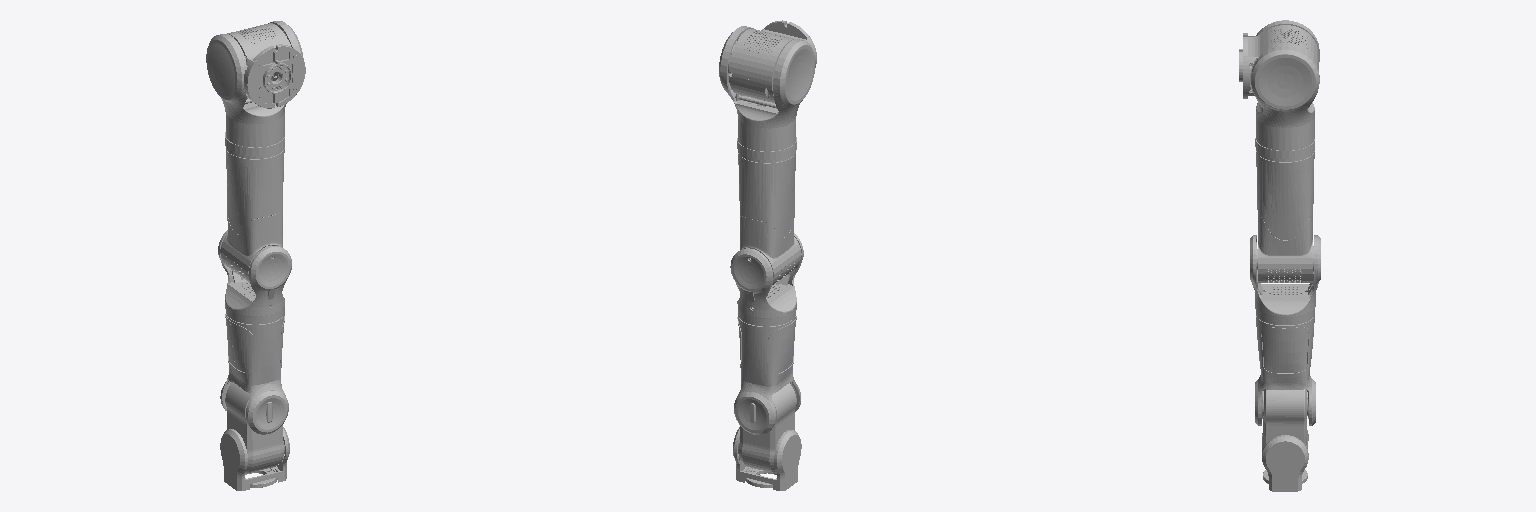
robot.urdf — lkls73_arm_left:
<?xml version="1.0" encoding="utf-8"?>
<!-- Source: vendor lkls73_i1_dual_arm_description package (A7V2_50_4.27).
     Rerooted at a zero-mass virtual link L_arm_root so the recipe's fixed
     mount joint can live above the first revolute L1_Joint. Kinematics
     otherwise match the source URDF exactly; L1_Joint's original [0 0.164 0]
     xyz offset is absorbed by the torso base's arm_left_mount placement. -->
<robot name="lkls73_arm_left">

  <link name="L_arm_root" />

  <link name="L1_Link">
    <inertial>
      <origin xyz="0.00235600060651345 0.0538143182293528 0.00010452198160641" rpy="0 0 0" />
      <mass value="1.3997199601261" />
      <inertia
        ixx="0.00114445383866051" ixy="-2.33503672142218E-06" ixz="-9.94413789148138E-09"
        iyy="0.000654874787984474" iyz="1.05907637546798E-06"
        izz="0.000691494366096022" />
    </inertial>
    <visual>
      <origin xyz="0 0 0" rpy="0 0 0" />
      <geometry>
        <mesh filename="meshes/L1_Link.STL" />
      </geometry>
      <material name="">
        <color rgba="0.752941176470588 0.752941176470588 0.752941176470588 1" />
      </material>
    </visual>
    <collision>
      <origin xyz="0 0 0" rpy="0 0 0" />
      <geometry>
        <mesh filename="meshes/L1_Link.STL" />
      </geometry>
    </collision>
  </link>
  <joint name="L1_Joint" type="revolute">
    <origin xyz="0 0 0" rpy="0 0 0" />
    <parent link="L_arm_root" />
    <child link="L1_Link" />
    <axis xyz="0 -1 0" />
    <limit lower="-2.91" upper="2.91" effort="80" velocity="10.47" />
  </joint>

  <link name="L2_Link">
    <inertial>
      <origin xyz="0.001618419731441 8.17586538826021E-06 -0.0795739675465699" rpy="0 0 0" />
      <mass value="1.14210487960353" />
      <inertia
        ixx="0.000999259952314694" ixy="4.38390447469883E-06" ixz="-1.34113970553355E-06"
        iyy="0.000929597687983869" iyz="2.7922699166407E-07"
        izz="0.000490873838603504" />
    </inertial>
    <visual>
      <origin xyz="0 0 0" rpy="0 0 0" />
      <geometry>
        <mesh filename="meshes/L2_Link.STL" />
      </geometry>
      <material name="">
        <color rgba="0.752941176470588 0.752941176470588 0.752941176470588 1" />
      </material>
    </visual>
    <collision>
      <origin xyz="0 0 0" rpy="0 0 0" />
      <geometry>
        <mesh filename="meshes/L2_Link.STL" />
      </geometry>
    </collision>
  </link>
  <joint name="L2_Joint" type="revolute">
    <origin xyz="0 0.058 0" rpy="0 0 0" />
    <parent link="L1_Link" />
    <child link="L2_Link" />
    <axis xyz="-1 0 0" />
    <limit lower="-3.2" upper="0.07" effort="80" velocity="10.47" />
  </joint>

  <link name="L3_Link">
    <inertial>
      <origin xyz="0.000181280975708543 0.0012493056236523 -0.128548942292033" rpy="0 0 0" />
      <mass value="1.2798435287888" />
      <inertia
        ixx="0.00158095142201815" ixy="7.74063763820645E-07" ixz="-8.68119829913453E-07"
        iyy="0.00163152743924312" iyz="-2.41539579836192E-06"
        izz="0.000344148864762278" />
    </inertial>
    <visual>
      <origin xyz="0 0 0" rpy="0 0 0" />
      <geometry>
        <mesh filename="meshes/L3_Link.STL" />
      </geometry>
      <material name="">
        <color rgba="0.752941176470588 0.752941176470588 0.752941176470588 1" />
      </material>
    </visual>
    <collision>
      <origin xyz="0 0 0" rpy="0 0 0" />
      <geometry>
        <mesh filename="meshes/L3_Link.STL" />
      </geometry>
    </collision>
  </link>
  <joint name="L3_Joint" type="revolute">
    <origin xyz="-2.5018E-05 0 -0.123" rpy="0 0 0" />
    <parent link="L2_Link" />
    <child link="L3_Link" />
    <axis xyz="0 0 1" />
    <limit lower="-2.69" upper="2.69" effort="36" velocity="9.1" />
  </joint>

  <link name="L4_Link">
    <inertial>
      <origin xyz="-3.38229166406629E-06 0.00077842370454409 -0.08460011635447" rpy="0 0 0" />
      <mass value="0.935504485205333" />
      <inertia
        ixx="0.000508246005403967" ixy="-4.123494432482E-06" ixz="-1.601236457745E-07"
        iyy="0.000524130562919452" iyz="-3.45757221458974E-07"
        izz="0.000333983371716017" />
    </inertial>
    <visual>
      <origin xyz="0 0 0" rpy="0 0 0" />
      <geometry>
        <mesh filename="meshes/L4_Link.STL" />
      </geometry>
      <material name="">
        <color rgba="0.752941176470588 0.752941176470588 0.752941176470588 1" />
      </material>
    </visual>
    <collision>
      <origin xyz="0 0 0" rpy="0 0 0" />
      <geometry>
        <mesh filename="meshes/L4_Link.STL" />
      </geometry>
    </collision>
  </link>
  <joint name="L4_Joint" type="revolute">
    <origin xyz="2.4267E-05 0 -0.1621" rpy="0 0 0" />
    <parent link="L3_Link" />
    <child link="L4_Link" />
    <axis xyz="0 -1 0" />
    <limit lower="-2.05" upper="2.05" effort="36" velocity="9.1" />
  </joint>

  <link name="L5_Link">
    <inertial>
      <origin xyz="-7.8967109106414E-05 0.00127705818106172 -0.0361222642165061" rpy="0 0 0" />
      <mass value="0.298012293033296" />
      <inertia
        ixx="0.000356324975203863" ixy="8.49346343481351E-07" ixz="-1.06208641170066E-06"
        iyy="0.000385006059216245" iyz="2.16302454958746E-06"
        izz="0.000101746640600842" />
    </inertial>
    <visual>
      <origin xyz="0 0 0" rpy="0 0 0" />
      <geometry>
        <mesh filename="meshes/L5_Link.STL" />
      </geometry>
      <material name="">
        <color rgba="0.752941176470588 0.752941176470588 0.752941176470588 1" />
      </material>
    </visual>
    <collision>
      <origin xyz="0 0 0" rpy="0 0 0" />
      <geometry>
        <mesh filename="meshes/L5_Link.STL" />
      </geometry>
    </collision>
  </link>
  <joint name="L5_Joint" type="revolute">
    <origin xyz="0 0 -0.124" rpy="0 0 0" />
    <parent link="L4_Link" />
    <child link="L5_Link" />
    <axis xyz="0 0 1" />
    <limit lower="-2.69" upper="2.69" effort="36" velocity="9.1" />
  </joint>

  <link name="L6_Link">
    <inertial>
      <origin xyz="0.00423270788750624 -0.00438646585481159 -0.0324823655341541" rpy="0 0 0" />
      <mass value="0.344326210144814" />
      <inertia
        ixx="0.000194396852170226" ixy="1.34053122918212E-06" ixz="9.47054882668167E-06"
        iyy="0.000233882186601331" iyz="2.86885239016126E-07"
        izz="0.000101458599044909" />
    </inertial>
    <visual>
      <origin xyz="0 0 0" rpy="0 0 0" />
      <geometry>
        <mesh filename="meshes/L6_Link.STL" />
      </geometry>
      <material name="">
        <color rgba="0.752941176470588 0.752941176470588 0.752941176470588 1" />
      </material>
    </visual>
    <collision>
      <origin xyz="0 0 0" rpy="0 0 0" />
      <geometry>
        <mesh filename="meshes/L6_Link.STL" />
      </geometry>
    </collision>
  </link>
  <joint name="L6_Joint" type="revolute">
    <origin xyz="0 0 -0.0881" rpy="0 0 0" />
    <parent link="L5_Link" />
    <child link="L6_Link" />
    <axis xyz="0 -1 0" />
    <limit lower="-1.59" upper="1.59" effort="18" velocity="7.33" />
  </joint>

  <link name="L7_Link">
    <inertial>
      <origin xyz="-0.00330667550396703 2.7195733834362E-07 -0.0202430179985484" rpy="0 0 0" />
      <mass value="0.143310943627726" />
      <inertia
        ixx="6.98168229201036E-05" ixy="2.70503363331007E-07" ixz="-3.17975733412514E-08"
        iyy="5.48675476764208E-05" iyz="1.01362000675163E-12"
        izz="4.4020607930097E-05" />
    </inertial>
    <visual>
      <origin xyz="0 0 0" rpy="0 0 0" />
      <geometry>
        <mesh filename="meshes/L7_Link.STL" />
      </geometry>
      <material name="">
        <color rgba="0.752941176470588 0.752941176470588 0.752941176470588 1" />
      </material>
    </visual>
    <collision>
      <origin xyz="0 0 0" rpy="0 0 0" />
      <geometry>
        <mesh filename="meshes/L7_Link.STL" />
      </geometry>
    </collision>
  </link>
  <joint name="L7_Joint" type="revolute">
    <origin xyz="-2.6563E-05 0 -0.0655" rpy="0 0 0" />
    <parent link="L6_Link" />
    <child link="L7_Link" />
    <axis xyz="-1 0 0" />
    <limit lower="-1.59" upper="1.59" effort="18" velocity="7.33" />
  </joint>

  <link name="L8_Link">
    <inertial>
      <origin xyz="1.08546552465473E-10 -1.13853898531247E-09 0.000500000000024592" rpy="0 0 0" />
      <mass value="6.05149284897746E-05" />
      <inertia
        ixx="8.49604381443617E-09" ixy="8.31968496153617E-22" ixz="-7.81277944440306E-15"
        iyy="8.49604381442905E-09" iyz="-9.03653480952828E-16"
        izz="1.69820018074357E-08" />
    </inertial>
    <visual>
      <origin xyz="0 0 0" rpy="0 0 0" />
      <geometry>
        <mesh filename="meshes/L8_Link.STL" />
      </geometry>
      <material name="">
        <color rgba="0.780392156862745 0.972549019607843 0.956862745098039 1" />
      </material>
    </visual>
    <collision>
      <origin xyz="0 0 0" rpy="0 0 0" />
      <geometry>
        <mesh filename="meshes/L8_Link.STL" />
      </geometry>
    </collision>
  </link>
  <joint name="L8_Joint" type="fixed">
    <origin xyz="2.5732E-05 0 -0.0455" rpy="0 0 0" />
    <parent link="L7_Link" />
    <child link="L8_Link" />
    <axis xyz="0 0 0" />
  </joint>

</robot>

--- Render facts (derived) ---
Views: 3 orthographic renders of the robot side by side, from view 1: azimuth 30°, elevation 25°; view 2: azimuth 150°, elevation 25°; view 3: azimuth 270°, elevation 25°.
Robot: lkls73_arm_left — 9 links, 8 joints (7 revolute, 1 fixed); root link L_arm_root; default pose: all joints at 0.
Visible links, largest first — view 1: L3_Link, L2_Link, L5_Link, L1_Link, L4_Link, L6_Link, L7_Link; view 2: L2_Link, L3_Link, L5_Link, L4_Link, L1_Link, L6_Link, L7_Link; view 3: L2_Link, L3_Link, L5_Link, L4_Link, L7_Link, L6_Link, L1_Link.
Boxes of the visible links, left/top/right/bottom form: L3_Link: left=220, top=148, right=284, bottom=282; L2_Link: left=206, top=21, right=303, bottom=158; L5_Link: left=220, top=314, right=288, bottom=434; L1_Link: left=227, top=23, right=305, bottom=108; L4_Link: left=218, top=230, right=291, bottom=324; L6_Link: left=225, top=382, right=283, bottom=473; L7_Link: left=220, top=427, right=289, bottom=490; L2_Link: left=719, top=26, right=814, bottom=162; L3_Link: left=738, top=153, right=801, bottom=284; L5_Link: left=734, top=316, right=800, bottom=434; L4_Link: left=730, top=233, right=803, bottom=326; L1_Link: left=729, top=20, right=816, bottom=102; L6_Link: left=739, top=383, right=796, bottom=473; L7_Link: left=733, top=427, right=801, bottom=490; L2_Link: left=1251, top=20, right=1319, bottom=161; L3_Link: left=1256, top=151, right=1314, bottom=282; L5_Link: left=1255, top=316, right=1315, bottom=425; L4_Link: left=1250, top=235, right=1320, bottom=324; L7_Link: left=1262, top=430, right=1308, bottom=491; L6_Link: left=1262, top=389, right=1307, bottom=451; L1_Link: left=1239, top=25, right=1318, bottom=98.
Bounding box of the posed robot: 0.1021 × 0.1105 × 0.6561 m (x, y, z).
Meshes: 8 distinct files referenced, 8 mesh visuals loaded (8 binary STL).
